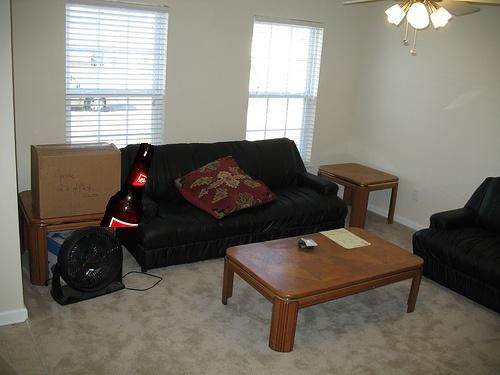tampered: (101, 144, 154, 227)
